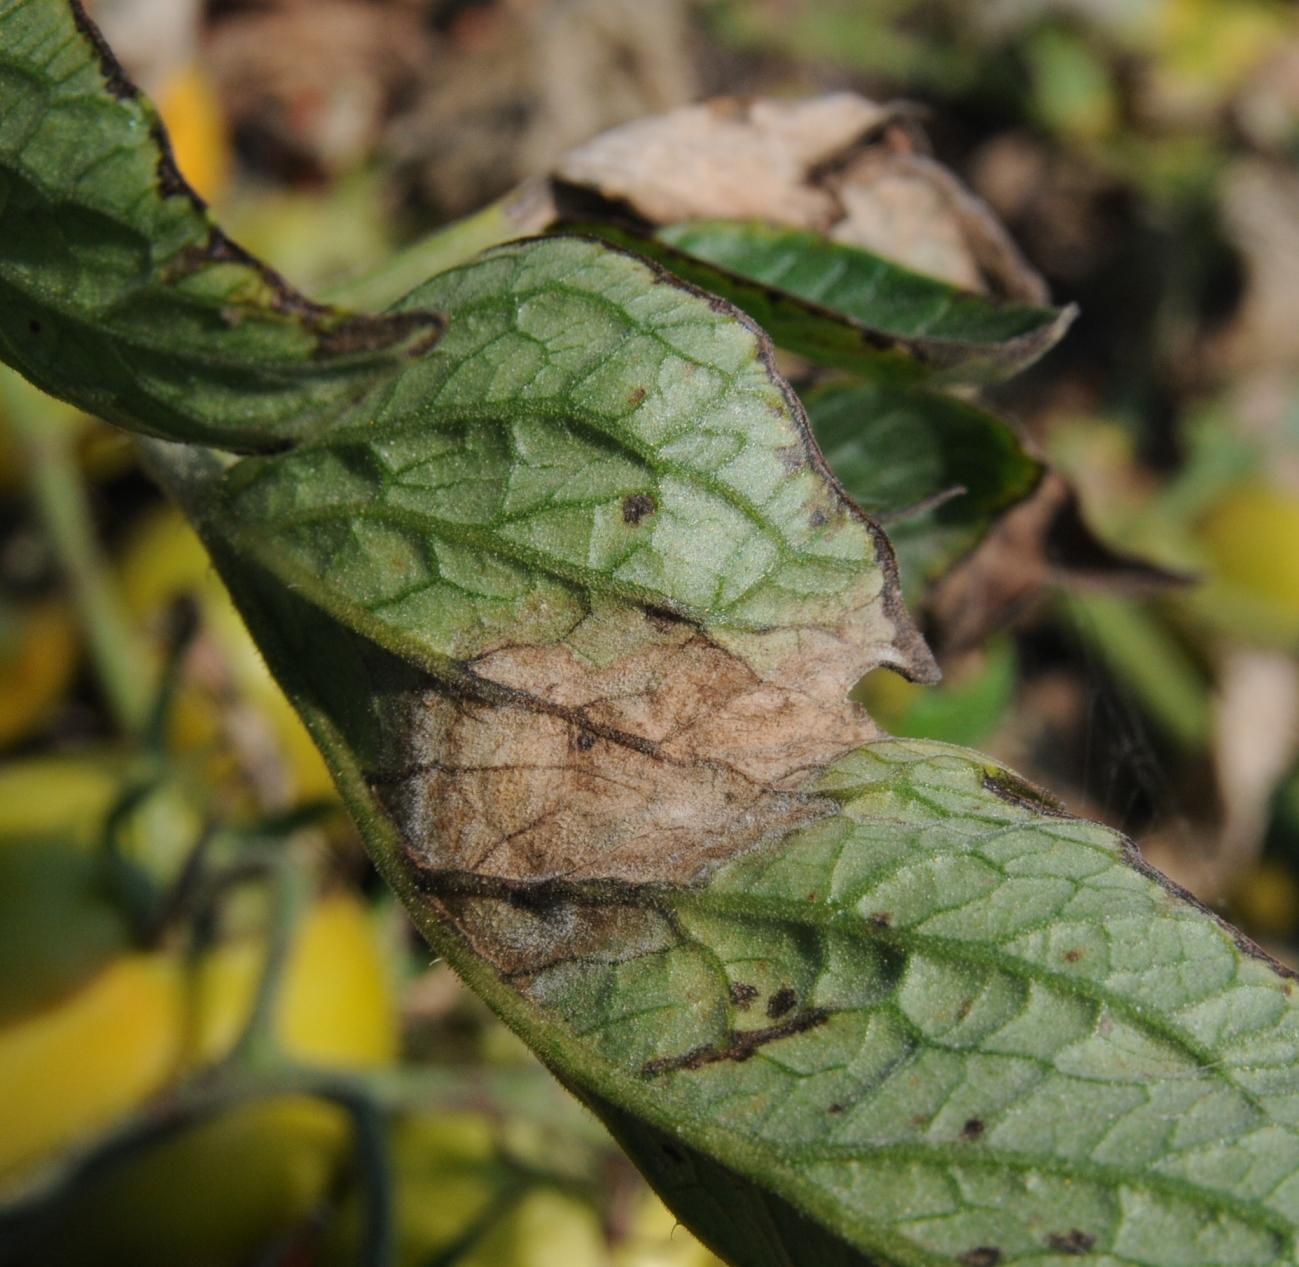Tomato leaf mosaic virus: (26, 81, 1299, 1255)
